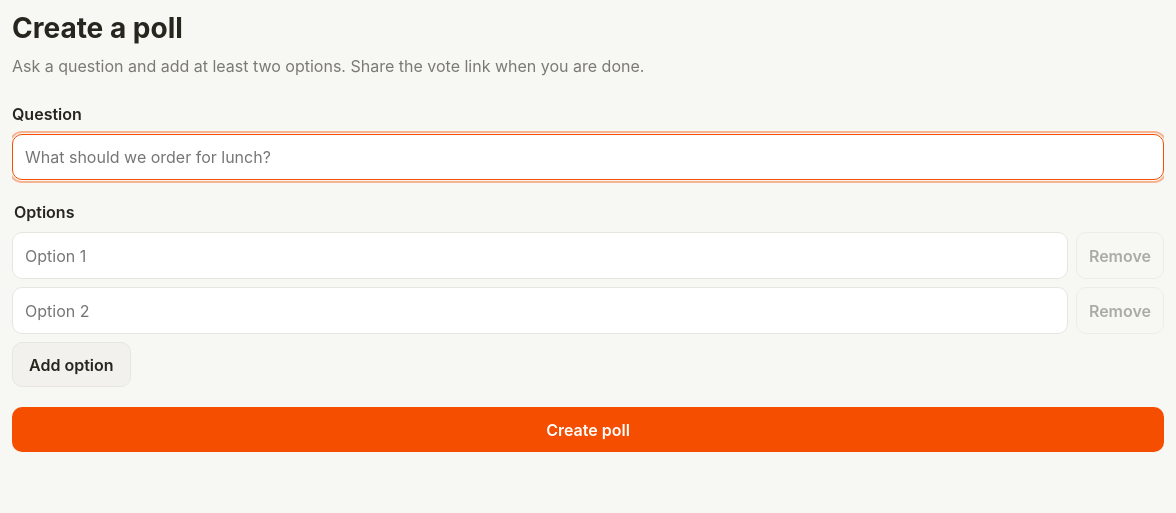
CreatePoll › shows validation error for empty option
The width and height of the screenshot is (1176, 513).
In the field with placeholder "What should we order for lunch?": [588, 157] box [12,134,1164,180], type "Lunch?"
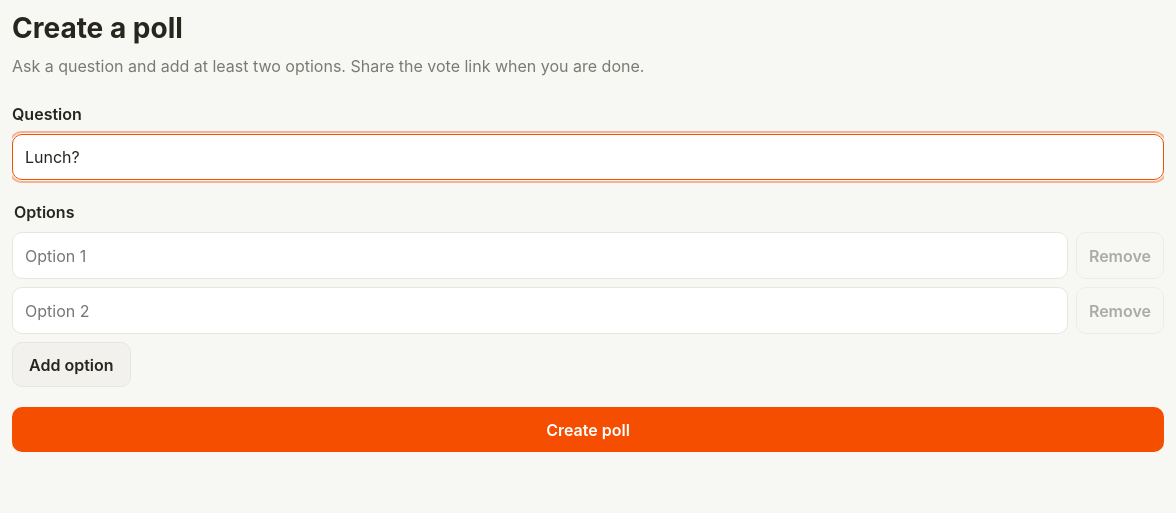
In the field labelled "Option 1": [540, 256] box [12,232,1068,279], type "Pizza"
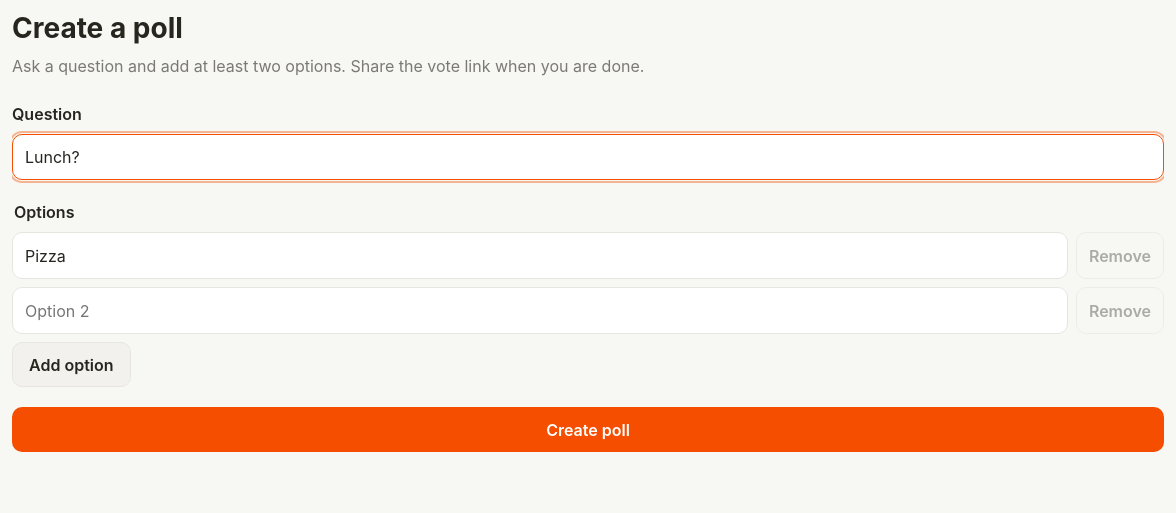
Click the button "Create poll": [588, 430] box [12,407,1164,452]
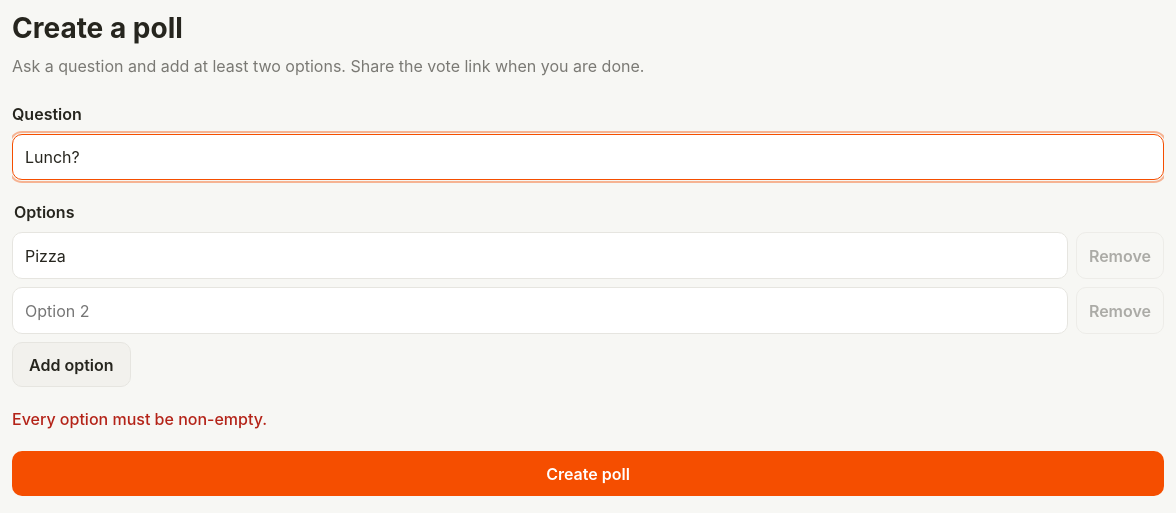
Check: the message reads "Every option must be non-empty.", box [12,409,267,429]
